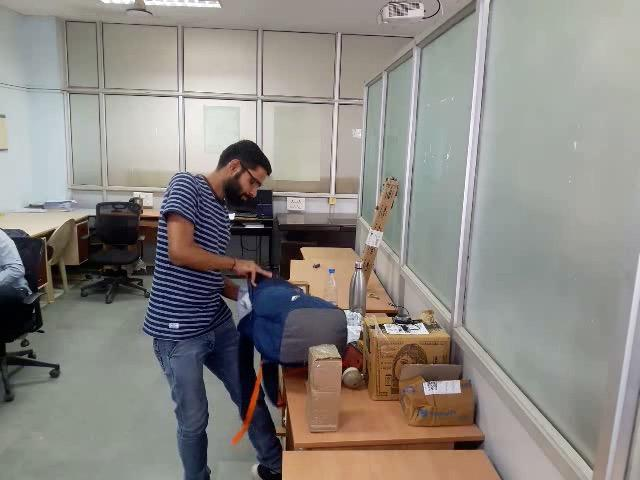shoplifting: (214, 266, 366, 378)
